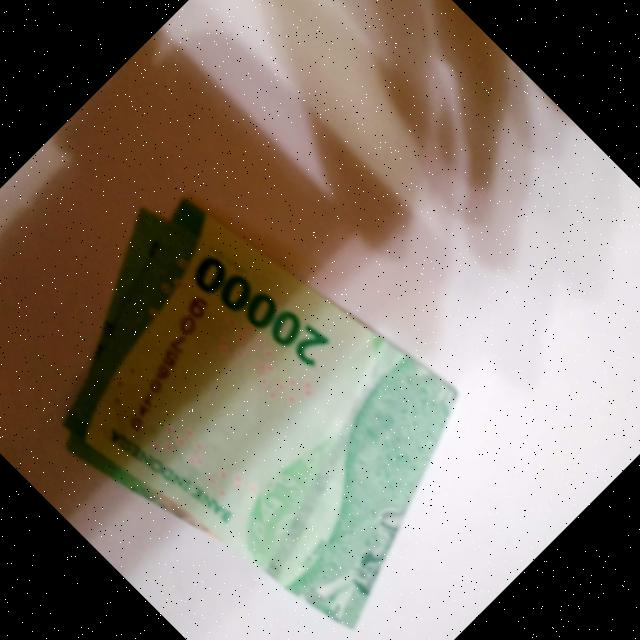20K: (0, 130, 536, 640)
